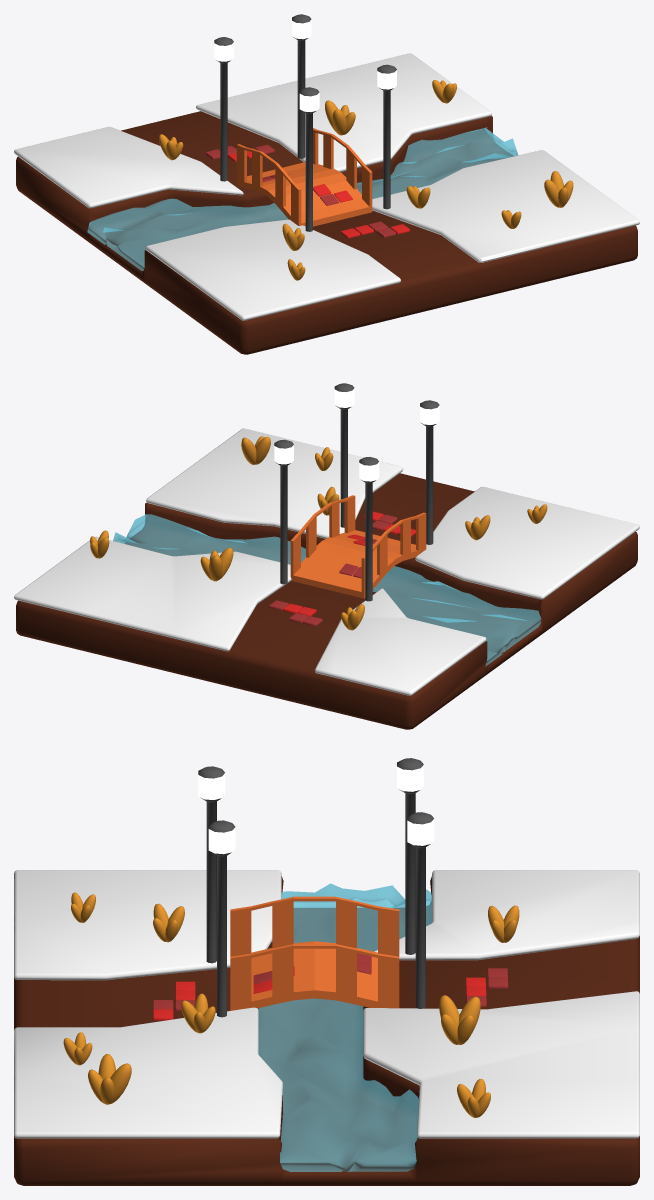
File: cubic-park.glb
The picture shows the model from 3 angles, top to bottom: view 1: azimuth 30°, elevation 25°; view 2: azimuth 150°, elevation 25°; view 3: azimuth 270°, elevation 25°; orthographic projection. The views are drawn at different scales.
Parts seen in each view (by area): view 1: Grass, Ground, River, Bridge, lamp1, lamp1.001, lamp2, lamp2.001, Cube.019, Cube.018; view 2: Grass, Ground, River, Bridge, lamp1.001, lamp1, lamp2.001, lamp2, Cube.018, Cube.019; view 3: Grass, Ground, River, Bridge, lamp2.001, lamp2, lamp1, lamp1.001, Cube.018, Cube.019, Cube.017, Cube.022 (+3 smaller).
Part boxes in pixels (<box>): Grass: <box>14,53,639,320</box>; Ground: <box>16,111,637,354</box>; River: <box>87,127,518,270</box>; Bridge: <box>236,128,372,226</box>; lamp1: <box>299,87,319,231</box>; lamp1.001: <box>214,37,233,181</box>; lamp2: <box>377,64,396,209</box>; lamp2.001: <box>292,14,311,158</box>; Cube.019: <box>544,171,573,207</box>; Cube.018: <box>325,100,355,135</box>; Grass: <box>14,428,639,695</box>; Ground: <box>16,473,637,729</box>; River: <box>113,514,540,666</box>; Bridge: <box>290,495,426,598</box>; lamp1.001: <box>359,457,379,601</box>; lamp1: <box>420,400,439,544</box>; lamp2.001: <box>274,439,293,584</box>; lamp2: <box>334,383,354,527</box>; Cube.018: <box>200,547,233,581</box>; Cube.019: <box>241,436,270,464</box>; Grass: <box>14,870,639,1138</box>; Ground: <box>14,876,639,1185</box>; River: <box>258,883,431,1171</box>; Bridge: <box>230,896,399,1010</box>; lamp2.001: <box>407,812,434,1008</box>; lamp2: <box>208,820,235,1017</box>; lamp1: <box>198,766,225,963</box>; lamp1.001: <box>397,758,423,954</box>; Cube.018: <box>439,995,480,1044</box>; Cube.019: <box>88,1054,131,1104</box>; Cube.017: <box>181,993,215,1033</box>; Cube.022: <box>457,1079,490,1117</box>.
Size of the model in its own units: 7.44 by 3.24 by 7.41.
